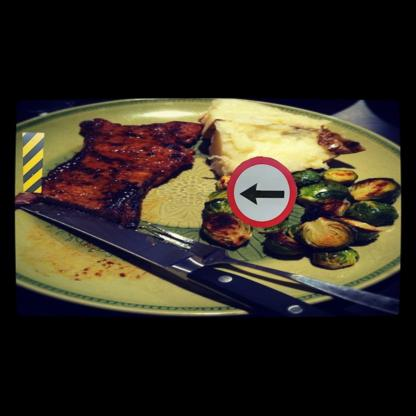O-MP: (22, 132, 44, 193)
R-24a: (227, 156, 297, 228)
